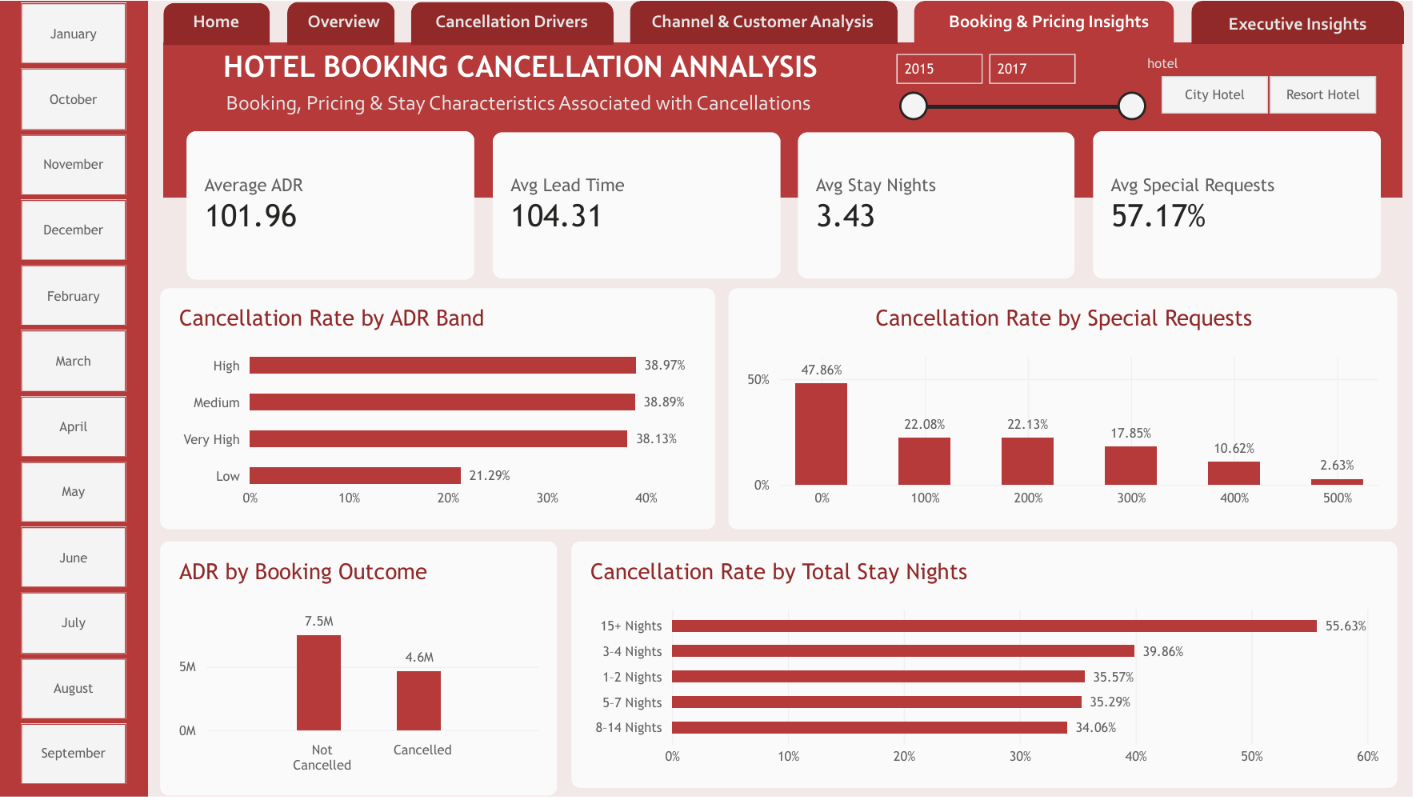

Layout of this report page (visuals, bound fields, positions):
{"tool":"powerbi","page":{"name":"Booking & Pricing Insights","canvas":[1280,720],"ordinal":4},"visuals":[{"type":"group","id":"g1","title":"Group 1","box":[148.4,0,1124,178.3],"z":0},{"type":"textbox","box":[148.4,9.1,99.1,27.8],"z":0,"group":"g3"},{"type":"shape","box":[150.8,38.3,1120.8,140],"z":0,"group":"g1"},{"type":"textbox","box":[200,43.4,606.4,35.1],"z":0,"group":"g2"},{"type":"shape","box":[154.6,110,280.2,145.3],"z":0,"group":"g4"},{"type":"shape","box":[1.3,0,134.5,719.3],"z":1000},{"type":"shape","box":[374.6,0.7,182.6,39],"z":1000,"group":"g1"},{"type":"textbox","box":[264.1,9.1,98,26.7],"z":1000,"group":"g3"},{"type":"textbox","box":[227.4,79.7,547.7,24.1],"z":1000,"group":"g2"},{"type":"cardVisual","title":"Total Bookings","fields":{"Data":[" Measures.Avg ADR"]},"box":[166.1,153.2,253.4,65.1],"z":1000,"group":"g4"},{"type":"shape","box":[510.9,471.9,758.3,247.4],"z":1500},{"type":"shape","box":[136.6,471.7,381.1,245],"z":1750},{"type":"shape","box":[829.9,0,234.9,39],"z":2000,"group":"g1"},{"type":"textbox","box":[379,9.1,172.5,27.8],"z":2000,"group":"g3"},{"type":"textbox","box":[179.7,133.9,228,20.5],"z":2000,"group":"g4"},{"type":"clusteredColumnChart","title":"ADR by Booking Outcome","fields":{"Category":["hotel_bookings.Booking_Status"],"Y":["Sum(hotel_bookings.adr)"]},"box":[147.7,479.6,359.6,230.4],"z":2000},{"type":"shape","box":[652.7,244.6,619.4,235],"z":2500},{"type":"shape","box":[572.7,0,241.6,39],"z":3000,"group":"g1"},{"type":"textbox","box":[580.5,9,227.1,25.6],"z":3000,"group":"g3"},{"type":"image","box":[337.9,156.1,66.4,65],"z":3000,"group":"g4"},{"type":"clusteredColumnChart","title":"Cancellation Rate by Special Requests","fields":{"Category":["hotel_bookings.total_of_special_requests"],"Y":[" Measures.Cancellation Rate"]},"box":[660.6,244.6,605.1,217.6],"z":3000},{"type":"shape","box":[135.8,244.7,524.4,227.2],"z":3500},{"type":"shape","box":[262.2,0.6,96.8,39],"z":4000,"group":"g1"},{"type":"textbox","box":[849.9,9,203.7,23.4],"z":4000,"group":"g3"},{"type":"clusteredBarChart","title":"Cancellation Rate by ADR Band","fields":{"Category":["hotel_bookings.ADR_band"],"Y":[" Measures.Cancellation Rate"]},"box":[147.7,254.1,501.8,217.6],"z":4000},{"type":"shape","box":[1080.4,0.3,192,39],"z":5000,"group":"g1"},{"type":"shape","box":[150.8,2.1,95.7,37.8],"z":6000,"group":"g1"},{"type":"barChart","title":"Cancellation Rate by Total Stay Nights","fields":{"Y":[" Measures.Cancellation Rate"],"Category":["hotel_bookings.Stay Length Group"]},"box":[527.1,484,724.7,224.5],"z":6000},{"type":"slicer","fields":{"Values":["hotel_bookings.arrival_date_month"]},"box":[0,18.8,134.5,680.3],"z":7000},{"type":"group","id":"g2","title":"Group 3","box":[200,43.4,606.4,60.4],"z":7000,"group":"g1"},{"type":"group","id":"g3","title":"Group 5","box":[148.4,9,905.2,28],"z":8000,"group":"g1"},{"type":"slicer","fields":{"Values":["hotel_bookings.hotel"]},"box":[1032.3,50.1,234,54.3],"z":8000},{"type":"textbox","box":[1105.2,10.6,142.4,25.3],"z":9000,"group":"g1"},{"type":"slicer","fields":{"Values":["hotel_bookings.arrival_date_year"]},"box":[804.7,43.4,237.7,67.6],"z":9000},{"type":"group","id":"g4","title":"Group 2","box":[154.6,110,280.2,145.3],"z":10000},{"type":"group","id":"g5","title":"Group 2","box":[431.6,110,279.7,143.9],"z":11000},{"type":"group","id":"g6","title":"Group 2","box":[708,110,279.7,143.9],"z":12000},{"type":"group","id":"g7","title":"Group 2","box":[984.5,110,279.7,145.2],"z":13000},{"type":"image","box":[164.1,43.4,51.9,61.5],"z":13001},{"type":"shape","box":[431.6,110,279.9,144.8],"z":15000,"group":"g5"},{"type":"shape","box":[708,110,279.9,144.8],"z":15000,"group":"g6"},{"type":"shape","box":[984.5,110,279.9,144.8],"z":15000,"group":"g7"},{"type":"cardVisual","title":"Total Bookings","fields":{"Data":[" Measures.Avg Lead Time"]},"box":[447,152.2,253.4,65.1],"z":16000,"group":"g5"},{"type":"cardVisual","title":"Total Bookings","fields":{"Data":[" Measures.Avg Stay Nights"]},"box":[723.4,152.2,253.4,65.1],"z":16000,"group":"g6"},{"type":"cardVisual","title":"Total Bookings","fields":{"Data":["Avg(hotel_bookings.total_of_special_requests)"]},"box":[999.9,152.2,253.4,65.1],"z":16000,"group":"g7"},{"type":"textbox","box":[460.6,132.9,228,20.5],"z":17000,"group":"g5"},{"type":"textbox","box":[737,132.9,228,20.5],"z":17000,"group":"g6"},{"type":"textbox","box":[1013.5,132.9,228,20.5],"z":17000,"group":"g7"},{"type":"image","box":[1171.4,154.4,67.2,64.5],"z":18000,"group":"g7"},{"type":"image","box":[618.8,155.1,66.4,65],"z":18000,"group":"g5"},{"type":"image","box":[895.2,155.1,66.4,65],"z":18000,"group":"g6"}]}

Visuals, with their boxes in screenshot pixels (x1, y1, x2, y2), scaled from the page's 1280x720 canvas onto the 1413x797 screenshot:
"Group 1" group: select_region(164, 0, 1405, 197)
textbox: select_region(164, 10, 273, 41)
shape: select_region(166, 42, 1404, 197)
textbox: select_region(221, 48, 890, 87)
shape: select_region(171, 122, 480, 283)
shape: select_region(1, 0, 150, 796)
shape: select_region(414, 1, 615, 44)
textbox: select_region(292, 10, 400, 40)
textbox: select_region(251, 88, 856, 115)
"Total Bookings" cardVisual: select_region(183, 170, 463, 242)
shape: select_region(564, 522, 1401, 796)
shape: select_region(151, 522, 571, 793)
shape: select_region(916, 0, 1175, 43)
textbox: select_region(418, 10, 609, 41)
textbox: select_region(198, 148, 450, 171)
"ADR by Booking Outcome" clusteredColumnChart: select_region(163, 531, 560, 786)
shape: select_region(721, 271, 1404, 531)
shape: select_region(632, 0, 899, 43)
textbox: select_region(641, 10, 892, 38)
image: select_region(373, 173, 446, 245)
"Cancellation Rate by Special Requests" clusteredColumnChart: select_region(729, 271, 1397, 512)
shape: select_region(150, 271, 729, 522)
shape: select_region(289, 1, 396, 44)
textbox: select_region(938, 10, 1163, 36)
"Cancellation Rate by ADR Band" clusteredBarChart: select_region(163, 281, 717, 522)
shape: select_region(1193, 0, 1405, 44)
shape: select_region(166, 2, 272, 44)
"Cancellation Rate by Total Stay Nights" barChart: select_region(582, 536, 1382, 784)
slicer - hotel_bookings.arrival_date_month: select_region(0, 21, 148, 774)
"Group 3" group: select_region(221, 48, 890, 115)
"Group 5" group: select_region(164, 10, 1163, 41)
slicer - hotel_bookings.hotel: select_region(1140, 55, 1398, 116)
textbox: select_region(1220, 12, 1377, 40)
slicer - hotel_bookings.arrival_date_year: select_region(888, 48, 1151, 123)
"Group 2" group: select_region(171, 122, 480, 283)
"Group 2" group: select_region(476, 122, 785, 281)
"Group 2" group: select_region(782, 122, 1090, 281)
"Group 2" group: select_region(1087, 122, 1396, 282)
image: select_region(181, 48, 238, 116)
shape: select_region(476, 122, 785, 282)
shape: select_region(782, 122, 1091, 282)
shape: select_region(1087, 122, 1396, 282)
"Total Bookings" cardVisual: select_region(493, 168, 773, 241)
"Total Bookings" cardVisual: select_region(799, 168, 1078, 241)
"Total Bookings" cardVisual: select_region(1104, 168, 1384, 241)
textbox: select_region(508, 147, 760, 170)
textbox: select_region(814, 147, 1065, 170)
textbox: select_region(1119, 147, 1370, 170)
image: select_region(1293, 171, 1367, 242)
image: select_region(683, 172, 756, 244)
image: select_region(988, 172, 1062, 244)
